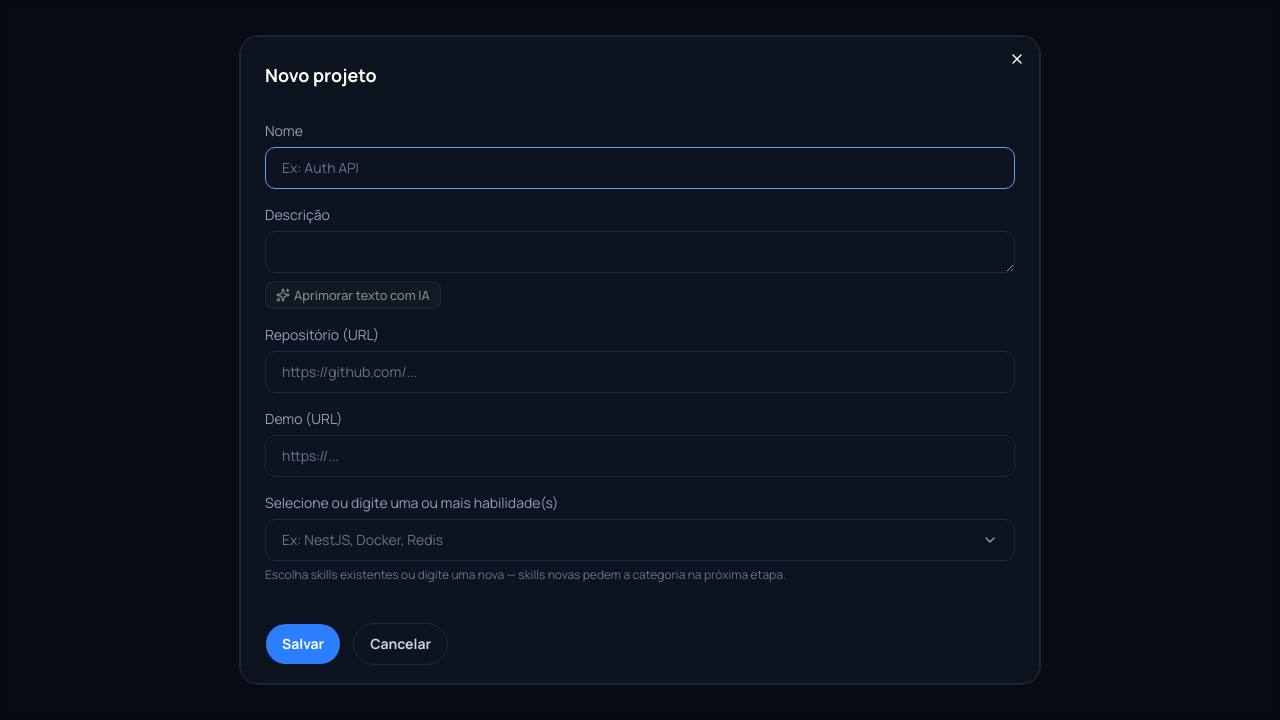
Test: ProjectModal › clears the field error once the user fixes the input
This screenshot has width=1280, height=720.
Click the button "Salvar" at [303, 644], box [265,623,341,665]
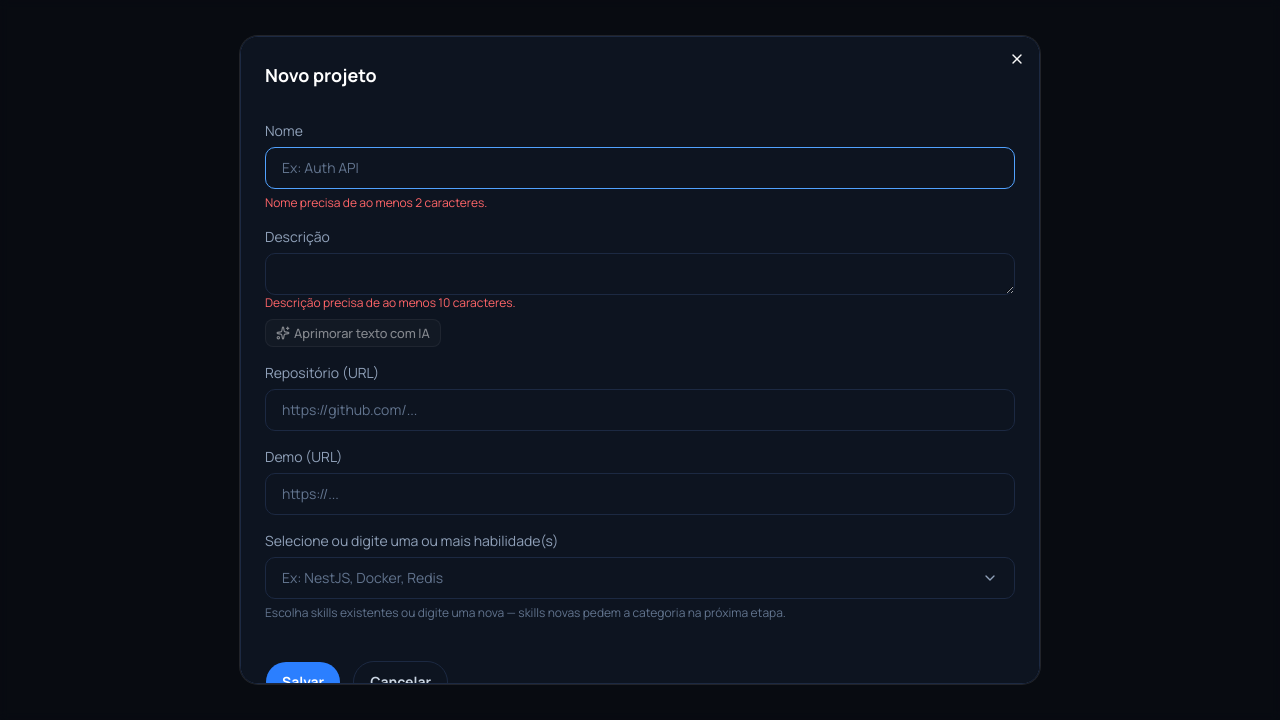
Now the text "Nome precisa de ao menos 2 caracteres." is shown, box [265,194,487,211]
Type "Auth API" into the field with placeholder "Ex: Auth API" at [640, 168], box [265,147,1015,189]
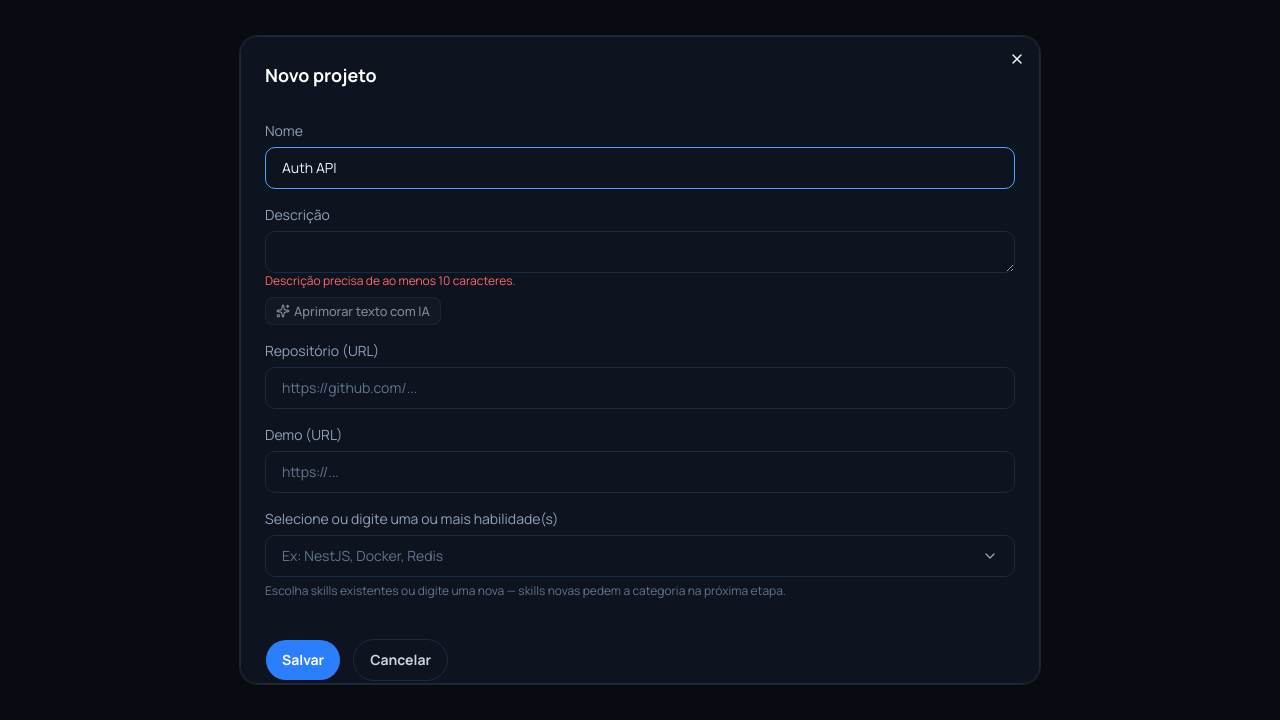
Now the text "Nome precisa de ao menos 2 caracteres." is gone
